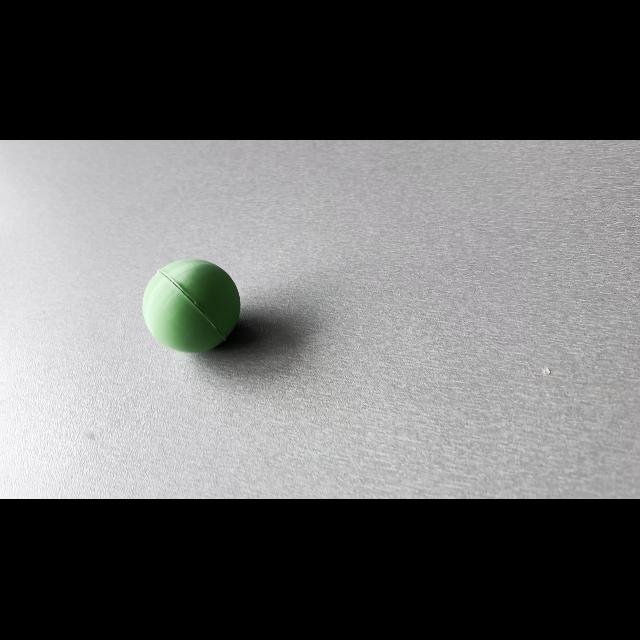objects: (138, 252, 248, 356)
